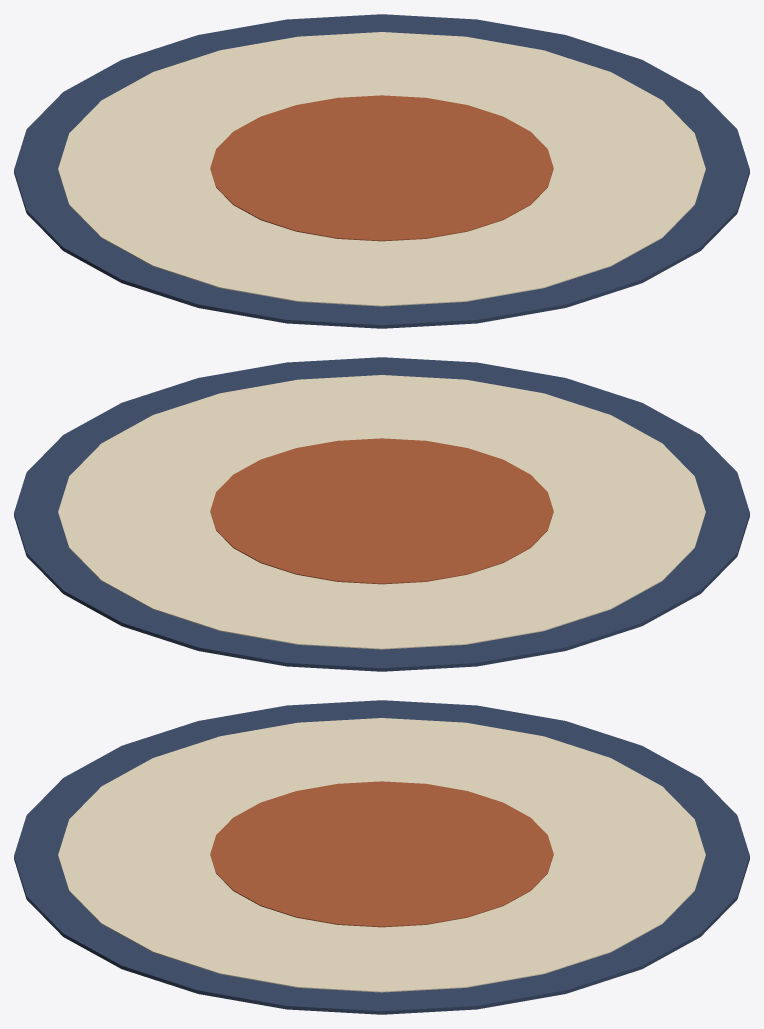
3 views of the same model, one above another, from view 1: azimuth 30°, elevation 25°; view 2: azimuth 150°, elevation 25°; view 3: azimuth 270°, elevation 25° (orthographic).
Visible parts, largest first — view 1: field, border, medallion; view 2: field, border, medallion; view 3: field, border, medallion.
Part boxes in pixels (<box>): field: <box>58,32,705,306</box>; border: <box>14,14,749,328</box>; medallion: <box>210,95,553,241</box>; field: <box>58,375,705,649</box>; border: <box>14,357,749,671</box>; medallion: <box>210,438,553,584</box>; field: <box>58,718,705,992</box>; border: <box>14,700,749,1014</box>; medallion: <box>210,781,553,927</box>.
Size of the model in its own units: 1.5 by 0.012 by 1.5.
